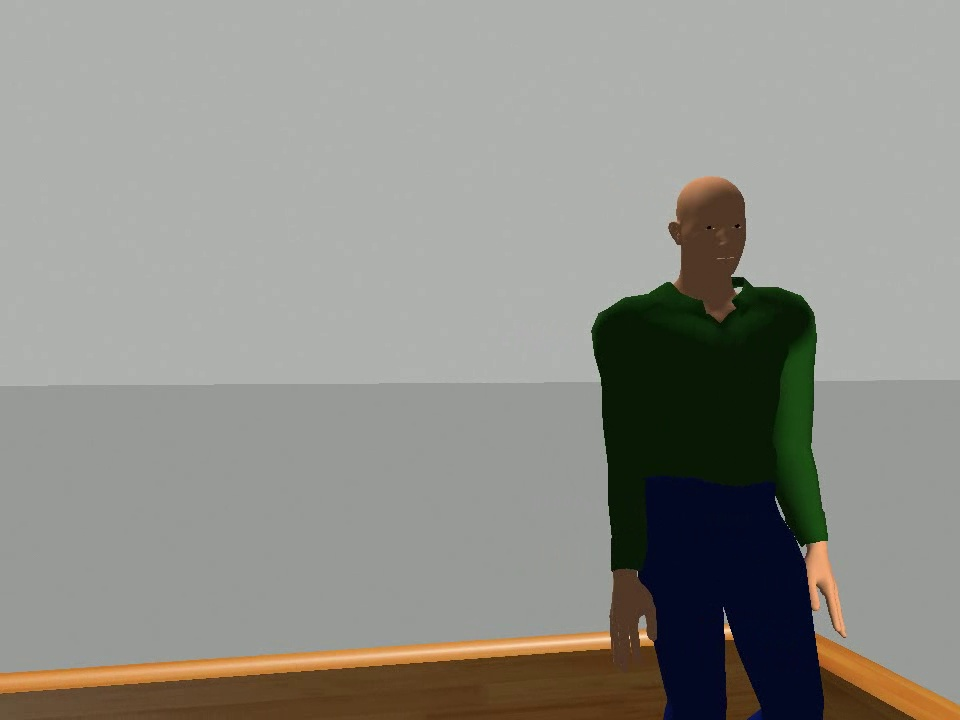person: (586, 174, 854, 720)
